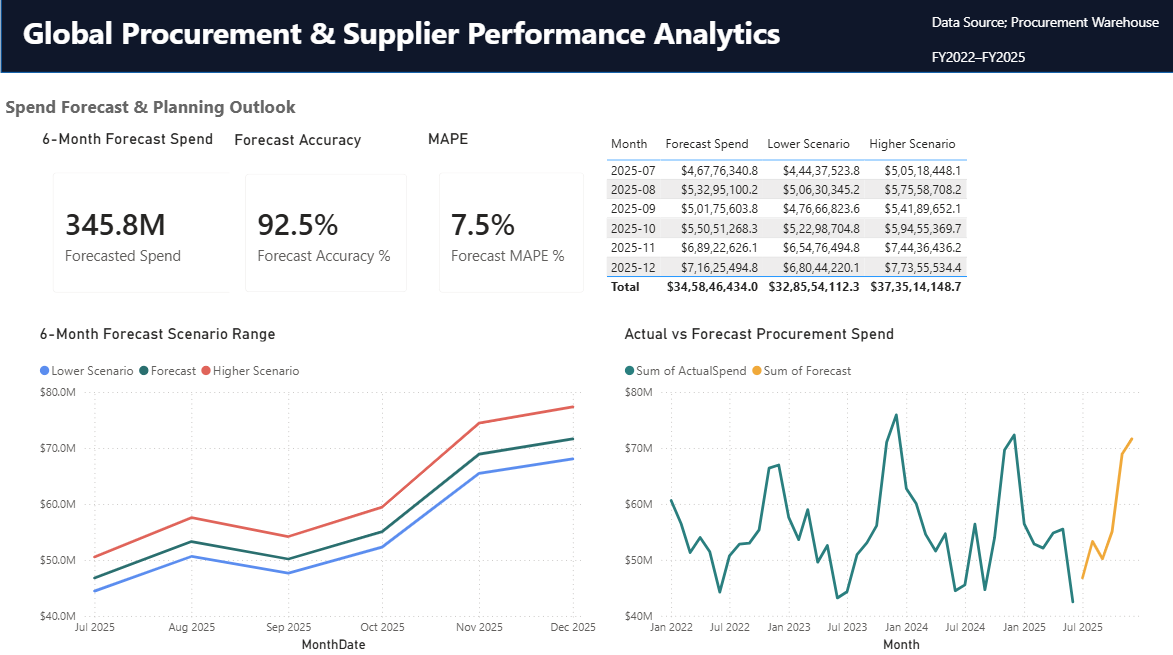

Layout of this report page (visuals, bound fields, positions):
{"tool":"powerbi","page":{"name":"06 Spend Forecasting","canvas":[1280,720],"ordinal":5},"visuals":[{"type":"shape","box":[9.6,9.6,1271,80],"z":0},{"type":"textbox","box":[28.8,19.2,1085.4,70],"z":1000},{"type":"textbox","box":[1010,19.2,270.3,70],"z":2000},{"type":"textbox","box":[10,108.2,388.8,41.3],"z":3000},{"type":"cardVisual","title":"6-Month Forecast Spend","fields":{"Data":["_Measures.Forecasted Spend"]},"box":[48.6,149.9,240.4,194.5],"z":4000},{"type":"cardVisual","title":"Forecast Accuracy","fields":{"Data":["_Measures.Forecast Accuracy %"]},"box":[256.6,151.3,209.3,193.1],"z":5000},{"type":"cardVisual","title":"MAPE","fields":{"Data":["_Measures.Forecast MAPE %"]},"box":[465.9,149.9,191.8,194.5],"z":6000},{"type":"lineChart","title":"Actual vs Forecast Procurement Spend","fields":{"Category":["SpendForecast.MonthDate"],"Y":["Sum(SpendForecast.ActualSpend)","Sum(SpendForecast.Forecast)"]},"box":[677.5,360.6,580.7,359],"z":7000},{"type":"lineChart","title":"6-Month Forecast Scenario Range","fields":{"Category":["SpendForecast.MonthDate"],"Y":["Sum(SpendForecast.LowerSpendScenario)","Sum(SpendForecast.Forecast)","Sum(SpendForecast.HigherSpendScenario)"]},"box":[45.9,360.6,611.8,359.2],"z":8000},{"type":"tableEx","fields":{"Values":["SpendForecast.YearMonth","Sum(SpendForecast.Forecast)","Sum(SpendForecast.LowerSpendScenario)","Sum(SpendForecast.HigherSpendScenario)"]},"box":[657.7,149.9,401.1,194.5],"z":9000}]}

Visuals, with their boxes in screenshot pixels (x1, y1, x2, y2), scaled from the page's 1280x720 canvas onto the 1173x655 screenshot:
shape: (left=9, top=9, right=1172, bottom=82)
textbox: (left=26, top=17, right=1021, bottom=81)
textbox: (left=926, top=17, right=1172, bottom=81)
textbox: (left=9, top=98, right=365, bottom=136)
"6-Month Forecast Spend" cardVisual: (left=45, top=136, right=265, bottom=313)
"Forecast Accuracy" cardVisual: (left=235, top=138, right=427, bottom=313)
"MAPE" cardVisual: (left=427, top=136, right=603, bottom=313)
"Actual vs Forecast Procurement Spend" lineChart: (left=621, top=328, right=1153, bottom=654)
"6-Month Forecast Scenario Range" lineChart: (left=42, top=328, right=603, bottom=654)
tableEx - SpendForecast.YearMonth x Sum(SpendForecast.Forecast): (left=603, top=136, right=970, bottom=313)
